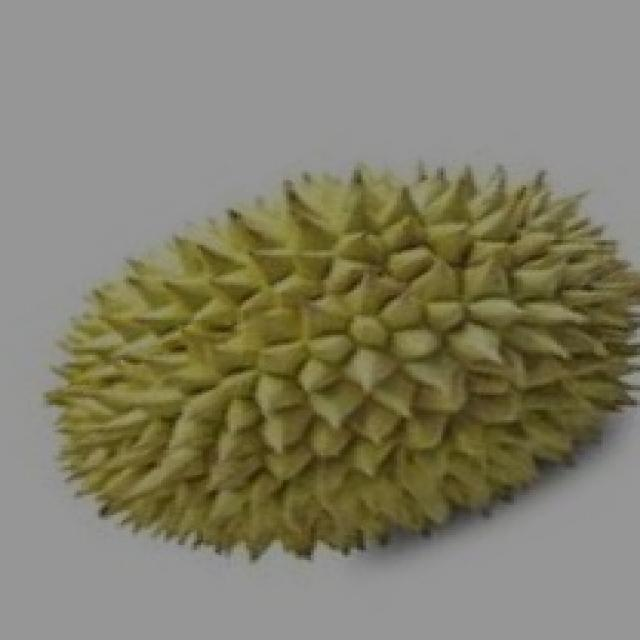fruit: (258, 178, 640, 608), (3, 228, 360, 612)
